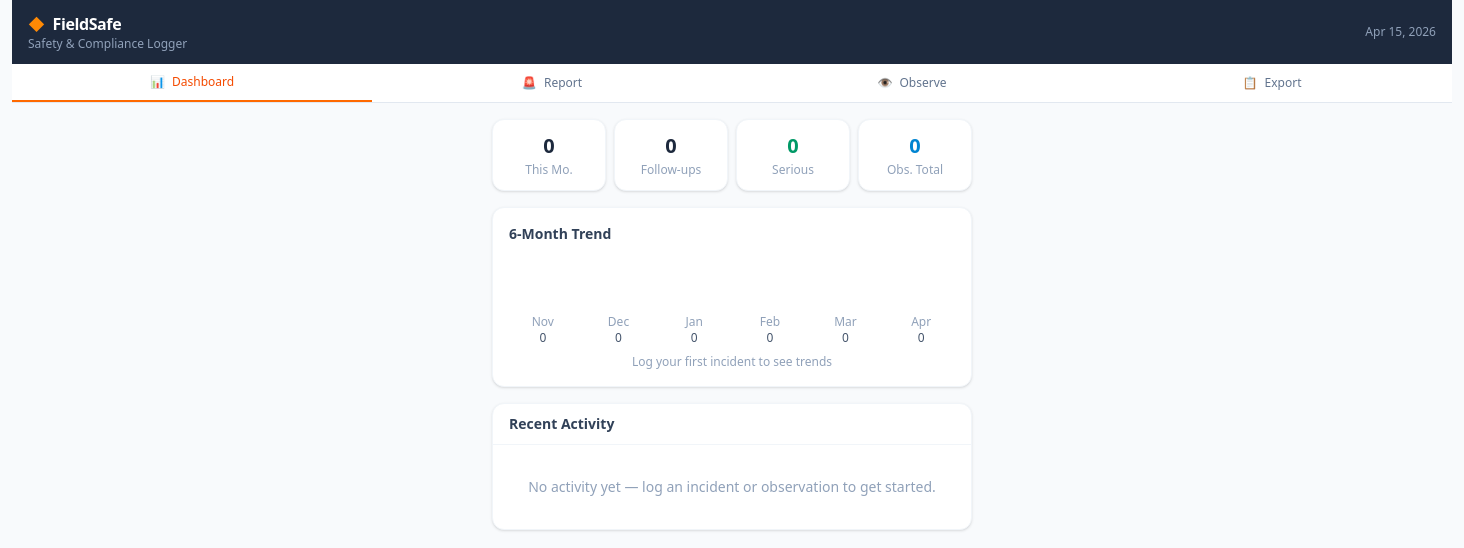
Test: UAT: Export flow › shows disabled buttons when no data exists
Click the button "📋 Export".
click(1272, 83)  # box left=1092, top=64, right=1452, bottom=102
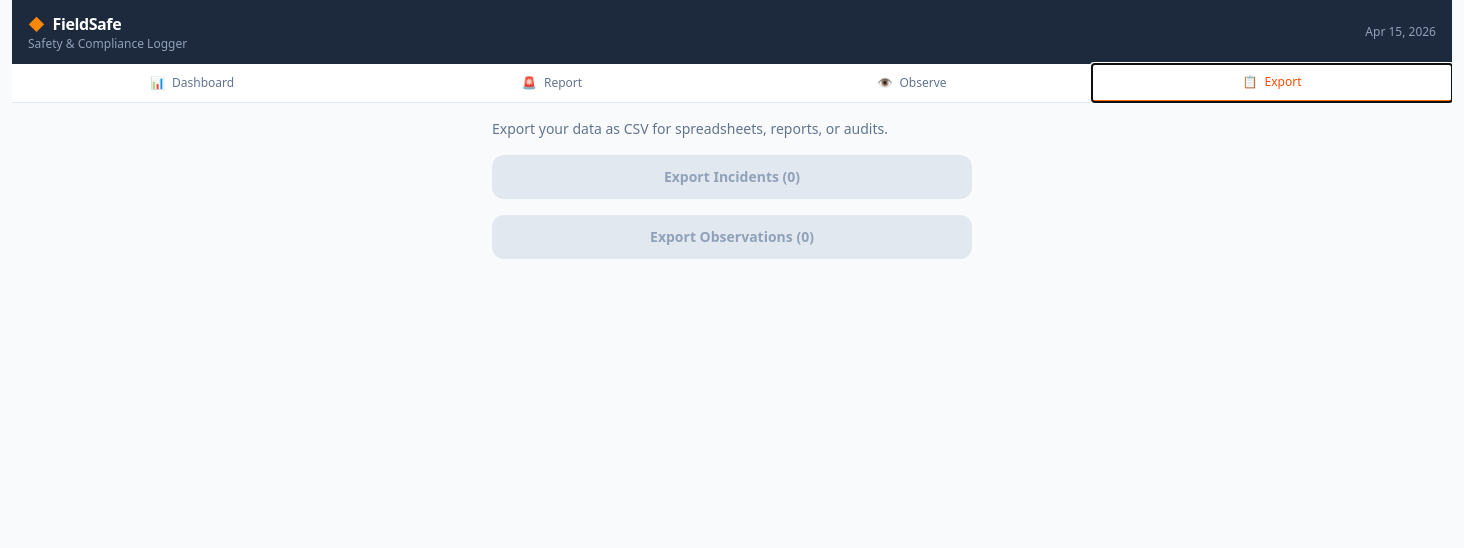
Expected: the button "Export Incidents (0)" is disabled, left=492, top=155, right=972, bottom=199
Expected: the button "Export Observations (0)" is disabled, left=492, top=215, right=972, bottom=259
